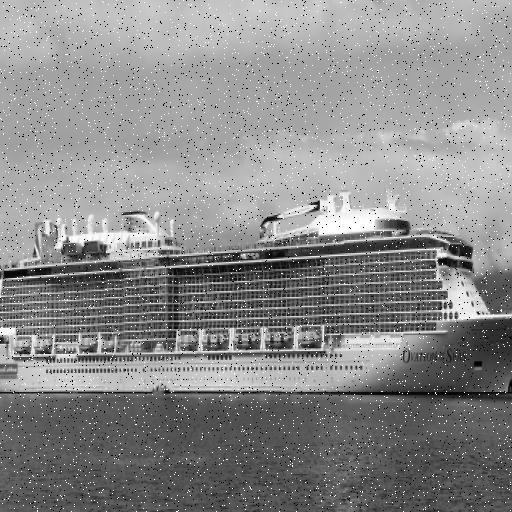cruises: (1, 182, 512, 405)
